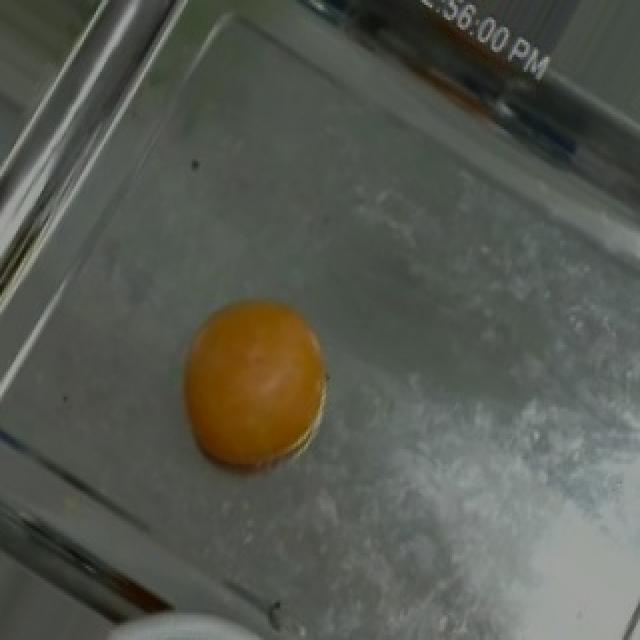Fruit: (162, 280, 344, 487)
